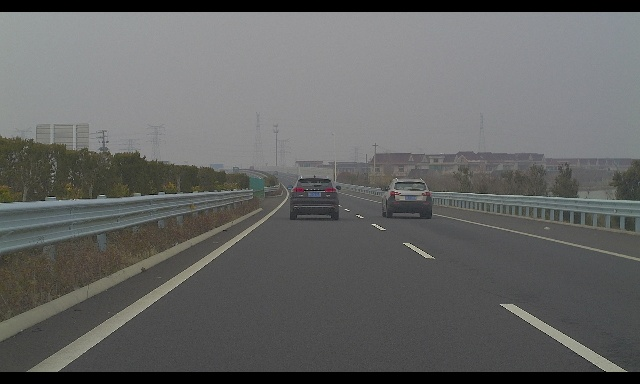car: (287, 175, 341, 220), (381, 178, 433, 219)
truck: (233, 167, 239, 174)
